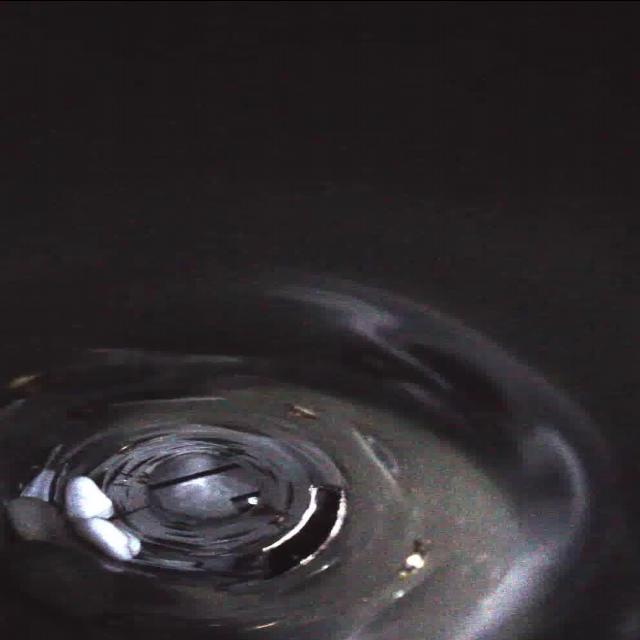crack: (128, 531, 198, 579), (88, 448, 147, 500), (184, 418, 261, 450), (114, 422, 186, 456), (204, 530, 254, 564), (80, 502, 130, 528), (275, 477, 301, 514)
hole: (257, 484, 357, 585)
